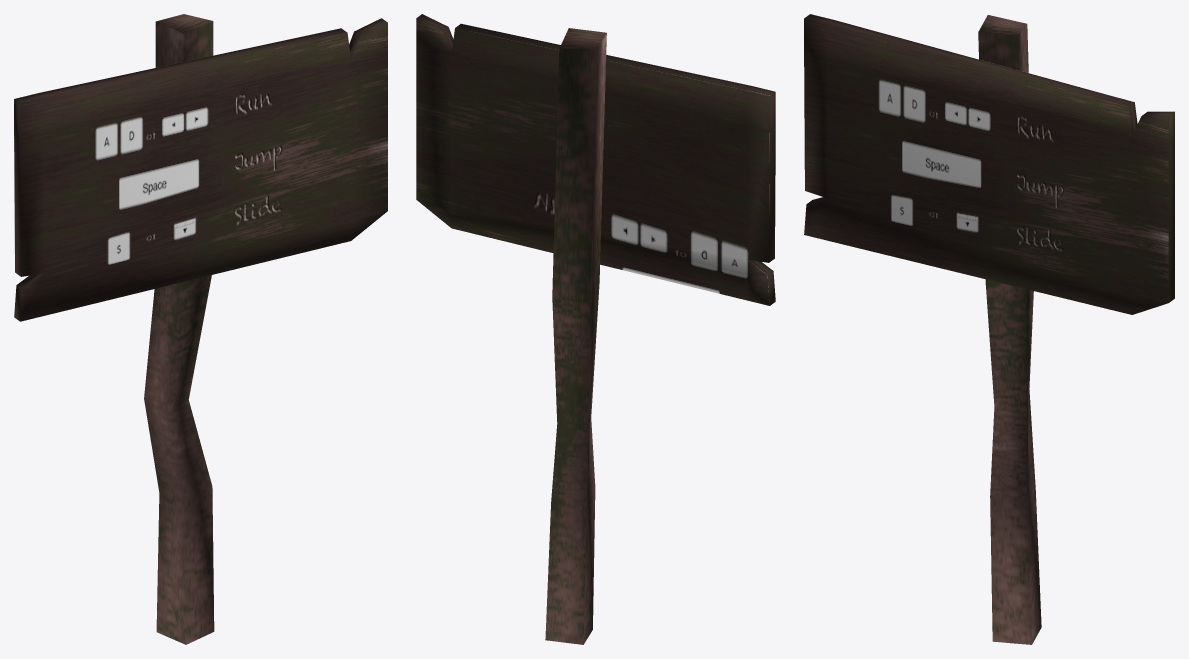
Rendered from woodsign_instructions.fbx.
3 views of the same model, side by side, from view 1: azimuth 30°, elevation 25°; view 2: azimuth 150°, elevation 25°; view 3: azimuth 330°, elevation 25° (orthographic). The views are drawn at different scales.
Parts seen in each view (by area): view 1: Wooden_Sign; view 2: Wooden_Sign; view 3: Wooden_Sign.
Boxes of the visible parts, bbox=[...] form: Wooden_Sign: bbox=[14, 14, 387, 644]; Wooden_Sign: bbox=[416, 14, 775, 644]; Wooden_Sign: bbox=[804, 14, 1174, 644].
Size of the model in its own units: 170 by 273 by 33.85.
